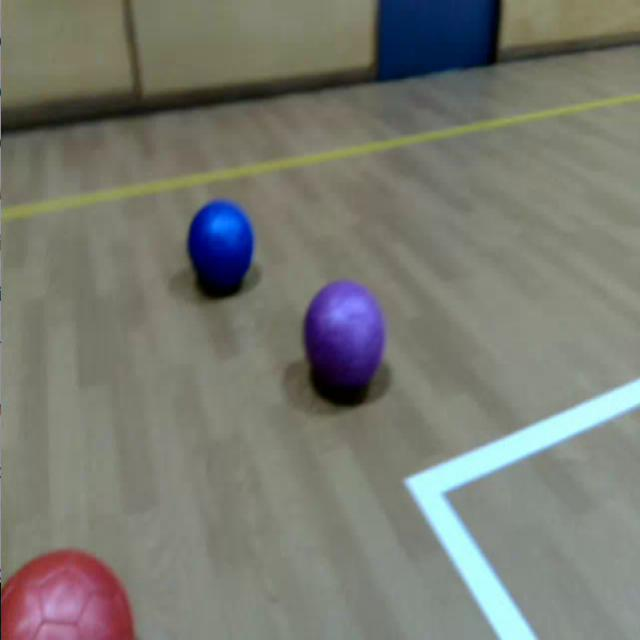blue_ball: (186, 200, 255, 288)
purple_ball: (303, 279, 385, 390)
red_ball: (0, 546, 136, 640)
